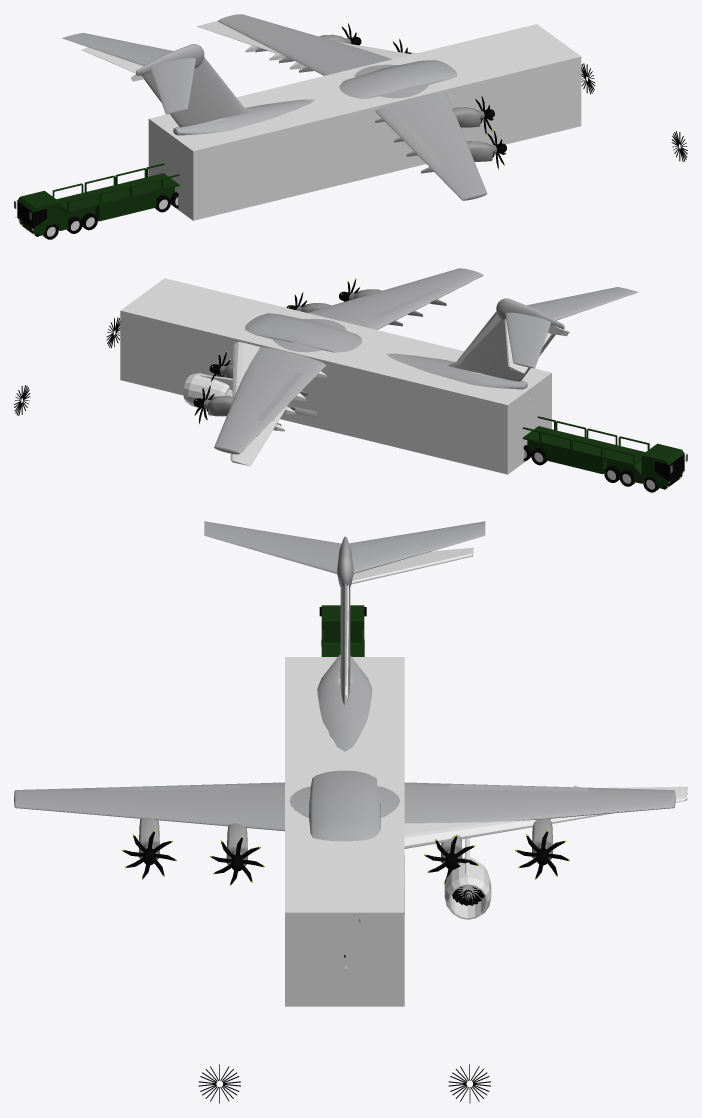
File: C-2 smooth.glb
The picture shows the model from 3 angles, top to bottom: view 1: azimuth 30°, elevation 25°; view 2: azimuth 150°, elevation 25°; view 3: azimuth 270°, elevation 25°; orthographic projection. The views are drawn at different scales.
Parts seen in each view (by area): view 1: サイズ基準, Cube.047, Cylinder.011, Cylinder.002, Cylinder.001, Cylinder.005, Cylinder.006, Sphere.002, Cylinder.012, Cylinder.003, wingB, Sphere (+9 smaller); view 2: サイズ基準, Cube.047, Cylinder.002, Cylinder.011, Cylinder.001, Cylinder.006, Cylinder.005, Sphere.002, wingB, Cylinder.003, Cylinder.012, engineA (+10 smaller); view 3: サイズ基準, Cylinder.011, Cylinder.002, Cylinder.006, Cylinder.001, Sphere.002, wingB, engineA, Cube.047, Elevator, fan2, Cylinder.005.
Boxes of the visible parts, x1,y1,x2,y2 form: サイズ基準: (148, 24, 581, 220); Cube.047: (17, 163, 179, 235); Cylinder.011: (380, 85, 487, 200); Cylinder.002: (217, 14, 398, 76); Cylinder.001: (339, 60, 457, 98); Cylinder.005: (140, 57, 252, 127); Cylinder.006: (69, 33, 195, 113); Sphere.002: (173, 99, 314, 135); Cylinder.012: (375, 104, 442, 173); Cylinder.003: (253, 36, 344, 75); wingB: (197, 21, 411, 58); Sphere: (136, 44, 204, 75); サイズ基準: (120, 278, 551, 474); Cube.047: (522, 416, 684, 488); Cylinder.002: (214, 339, 322, 454); Cylinder.011: (303, 268, 483, 330); Cylinder.001: (245, 313, 361, 352); Cylinder.006: (505, 287, 631, 367); Cylinder.005: (448, 311, 560, 381); Sphere.002: (386, 353, 527, 389); wingB: (230, 342, 288, 466); Cylinder.003: (259, 358, 326, 425); Cylinder.012: (356, 290, 447, 329); engineA: (183, 373, 232, 409); サイズ基準: (285, 657, 404, 1006); Cylinder.011: (14, 786, 310, 831); Cylinder.002: (377, 786, 675, 823); Cylinder.006: (204, 525, 485, 573); Cylinder.001: (309, 770, 380, 841); Sphere.002: (317, 654, 372, 957); wingB: (404, 786, 687, 848); engineA: (444, 857, 491, 919); Cube.047: (321, 605, 364, 656); Elevator: (351, 547, 473, 584); fan2: (198, 1064, 490, 1103); Cylinder.005: (340, 538, 350, 705).
Size of the model in its own units: 62.6 by 18.6 by 44.24.
59 materials, 11 textured.
